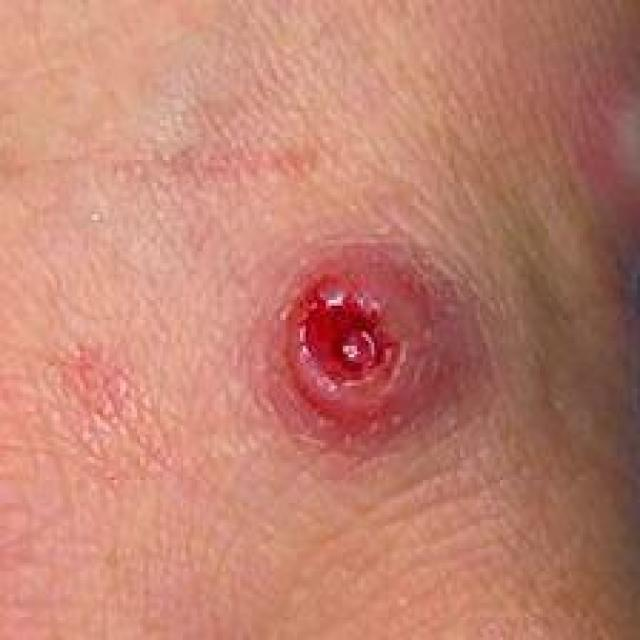monkeypox: (149, 148, 510, 582)
